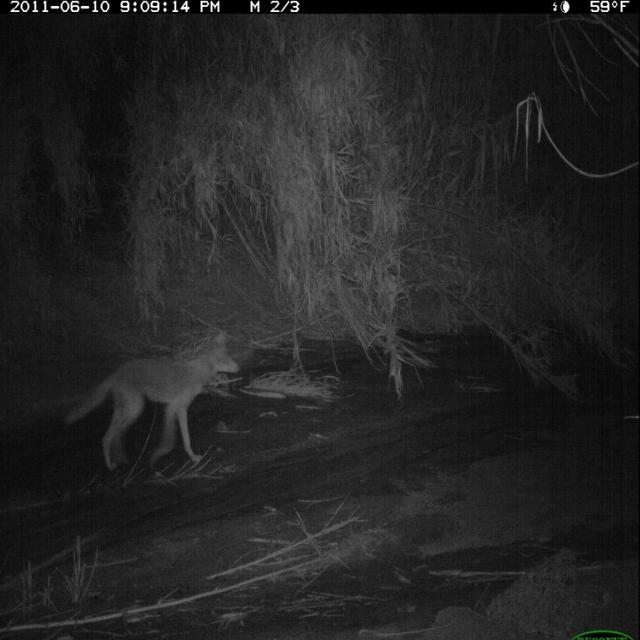coyote: (59, 322, 242, 483)
